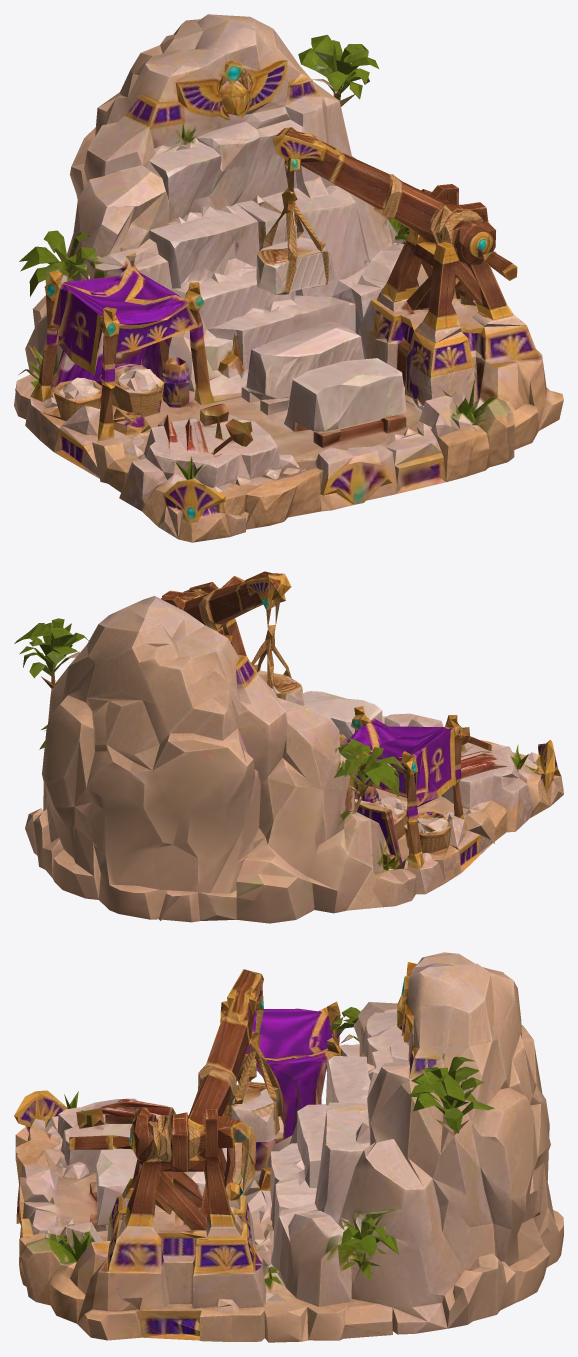
Rendered from quarry.glb.
The picture shows the model from 3 angles, top to bottom: view 1: azimuth 30°, elevation 25°; view 2: azimuth 150°, elevation 25°; view 3: azimuth 270°, elevation 25°; orthographic projection. The views are drawn at different scales.
Bounding box in the file's own units: 1.7 × 1.15 × 1.9.
1 material, 1 textured.
